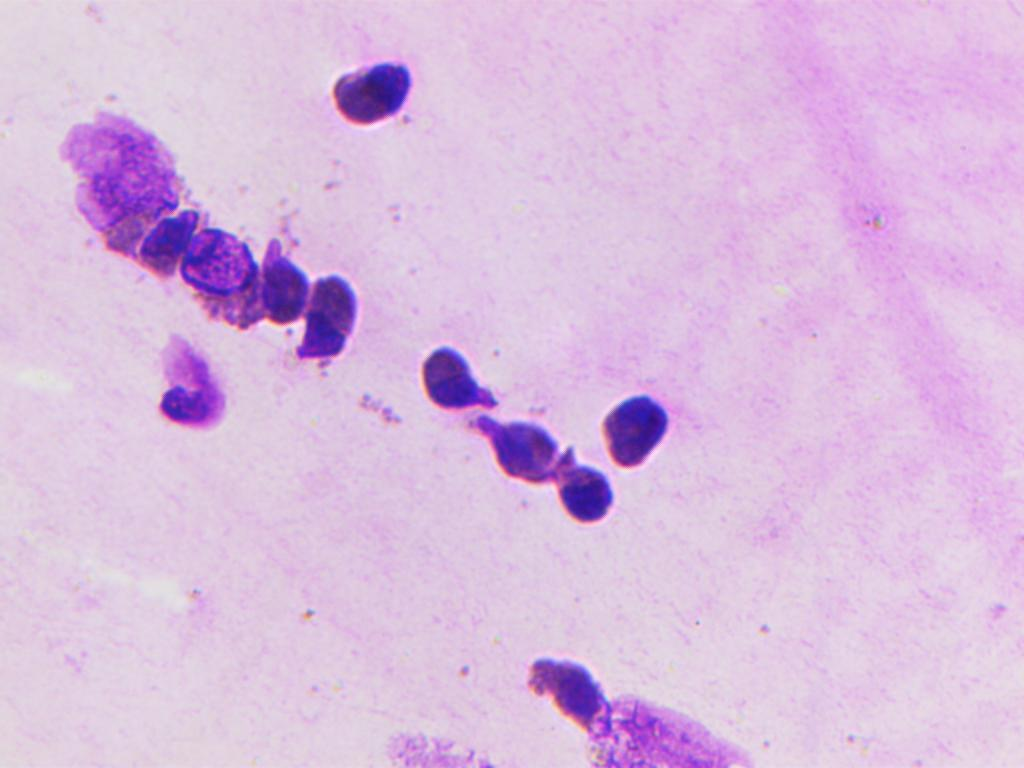artifact: (586, 692, 763, 767)
eosinophil: (52, 112, 197, 255), (179, 223, 264, 322)
neutrophil: (500, 631, 610, 730), (296, 259, 388, 376), (144, 326, 228, 441), (318, 43, 421, 132), (598, 377, 691, 470), (410, 331, 499, 421), (251, 223, 315, 345), (537, 443, 613, 545), (473, 413, 562, 499)
